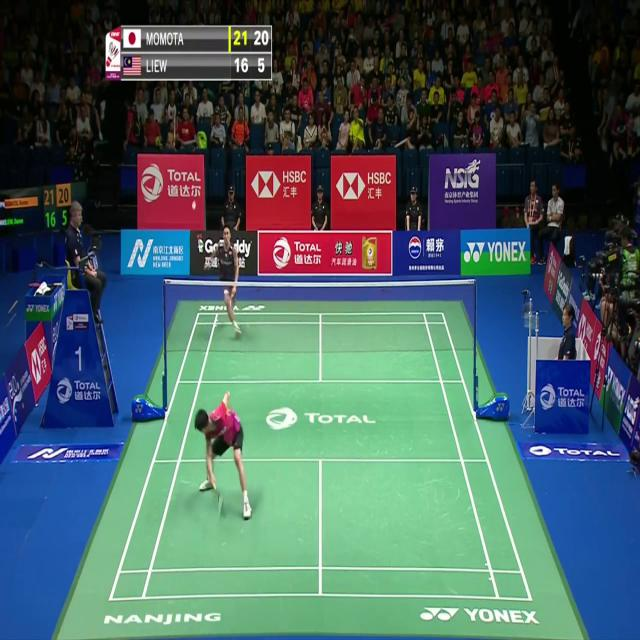Shuttlecock: (190, 200, 196, 211)
